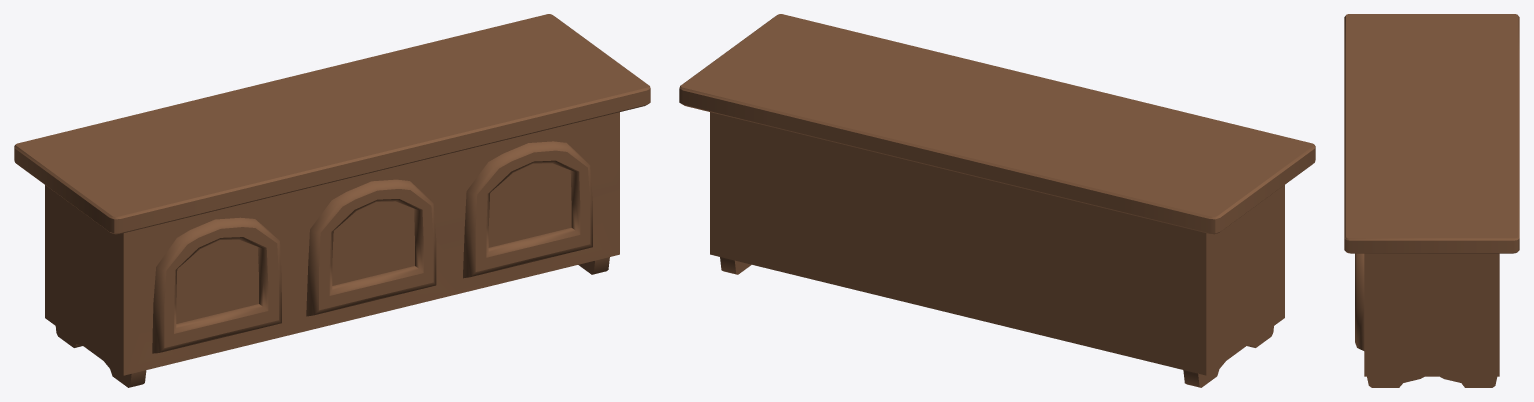
File: CI_078_079_cupboard_var1.glb
The picture shows the model from 3 angles, left to right: view 1: azimuth 30°, elevation 25°; view 2: azimuth 150°, elevation 25°; view 3: azimuth 270°, elevation 25°; orthographic projection. The views are drawn at different scales.
Visible parts, largest first — view 1: cupboard; view 2: cupboard; view 3: cupboard.
Part boxes in pixels (box(x1,y1,x2,y2)): cupboard: box(14, 14, 650, 387); cupboard: box(679, 14, 1315, 387); cupboard: box(1344, 14, 1519, 387).
Size of the model in its own units: 2.25 by 0.75 by 0.7386.
